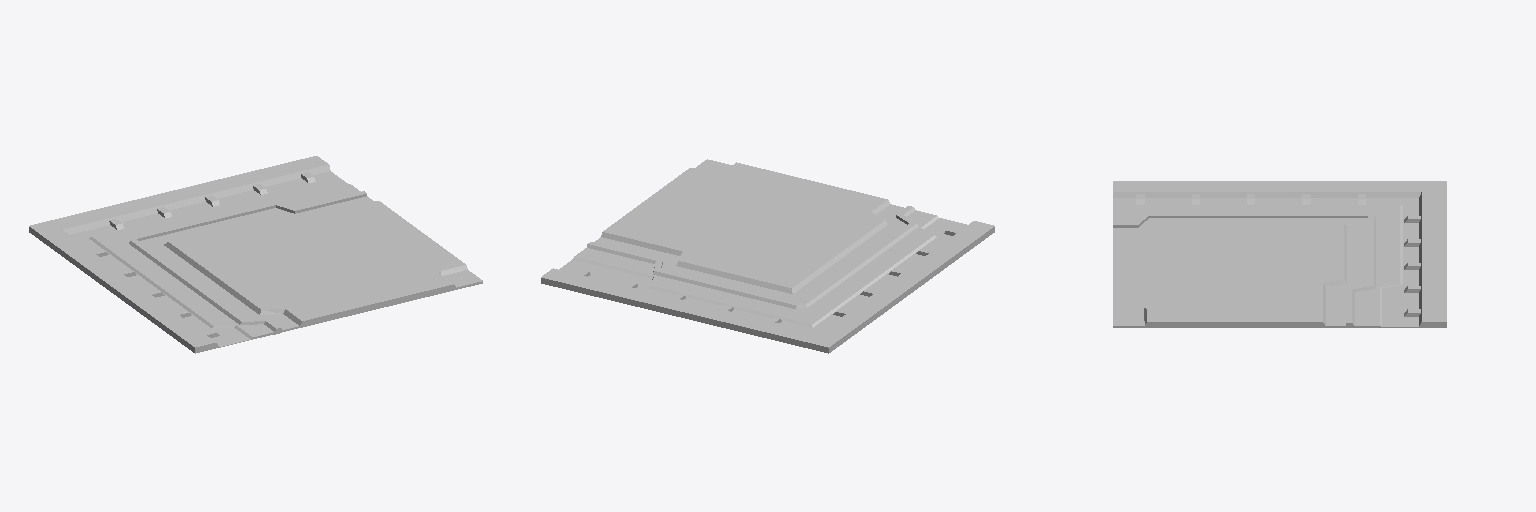
File: FloorTile_Corner.obj
3 views of the same model, side by side, from view 1: azimuth 30°, elevation 25°; view 2: azimuth 150°, elevation 25°; view 3: azimuth 270°, elevation 25° (orthographic).
Parts seen in each view (by area): view 1: FloorTile_Corner_Plane.250; view 2: FloorTile_Corner_Plane.250; view 3: FloorTile_Corner_Plane.250.
Boxes of the visible parts, x1=… form: FloorTile_Corner_Plane.250: x1=29, y1=156, x2=482, y2=353; FloorTile_Corner_Plane.250: x1=541, y1=159, x2=994, y2=353; FloorTile_Corner_Plane.250: x1=1113, y1=181, x2=1446, y2=327.
Bounding box in the file's own units: 2 × 0.0615 × 2.